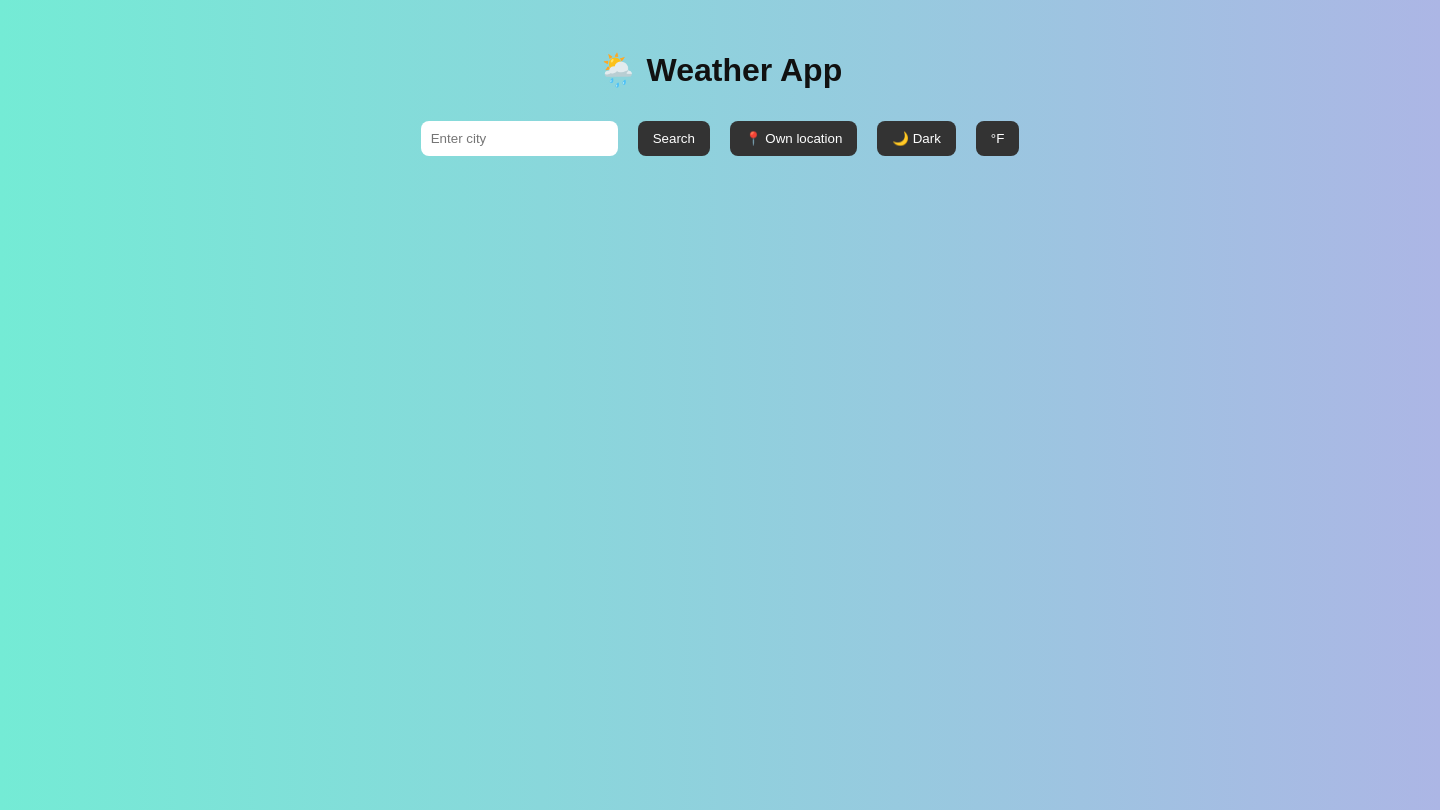
Test: Weather › accessibility › names the theme button by what it does, keeping the emoji as visible text only
Click the button with aria-label "Switch to dark mode": (917, 138) [877, 121, 956, 156]
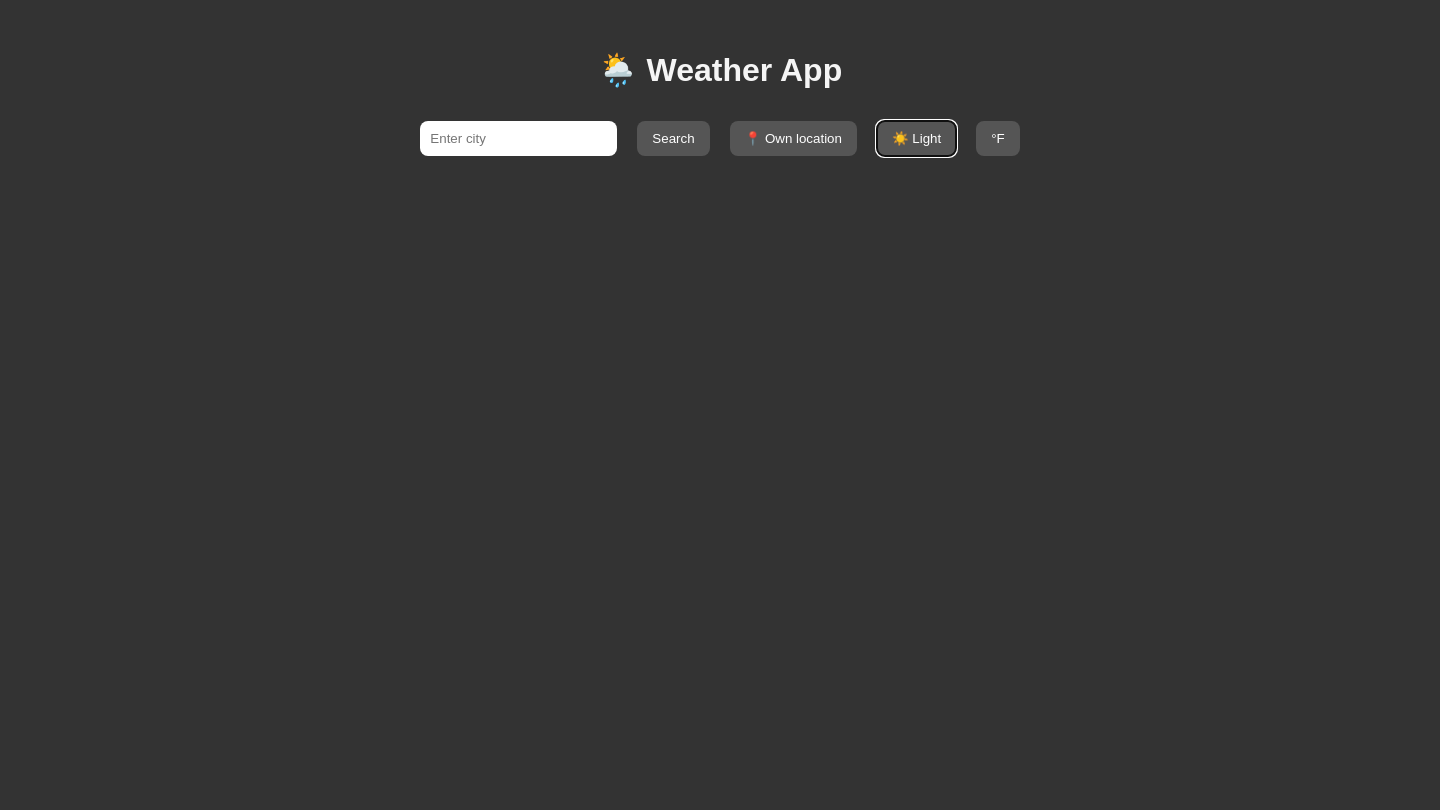
Expected: the button with aria-label "Switch to light mode" reads "☀️ Light", [877, 121, 956, 156]
